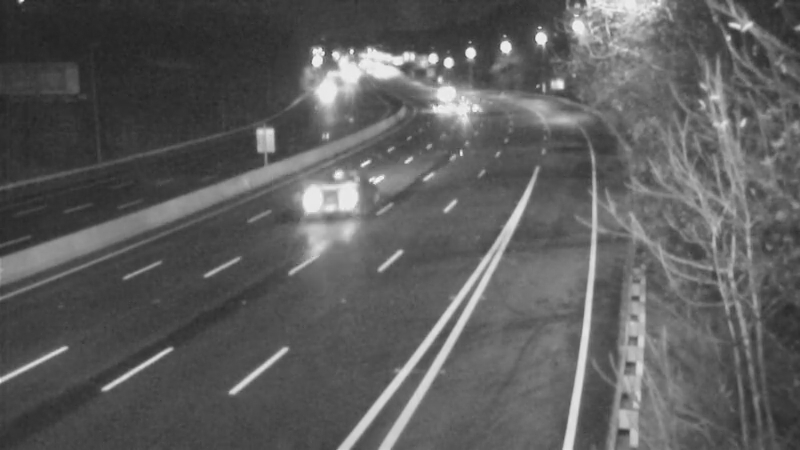vehicle: (289, 160, 369, 240), (420, 66, 470, 116), (420, 80, 470, 130), (448, 80, 498, 130)
